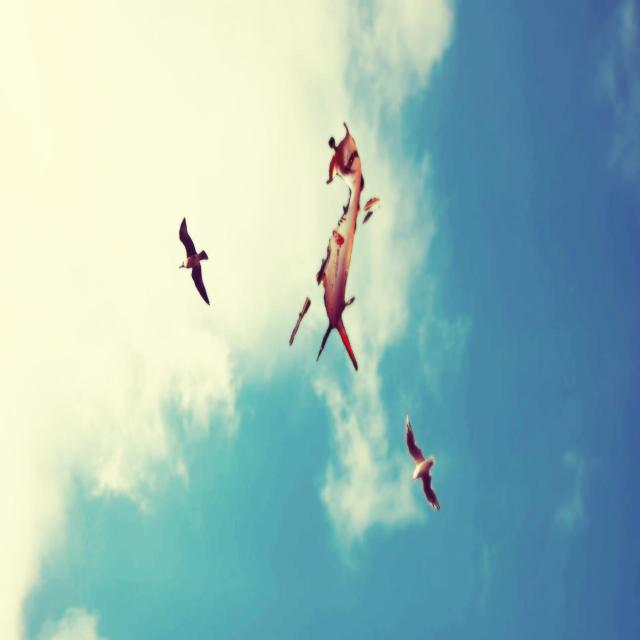airplane: (289, 120, 380, 371)
